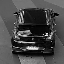motor: (14, 10, 44, 55)
